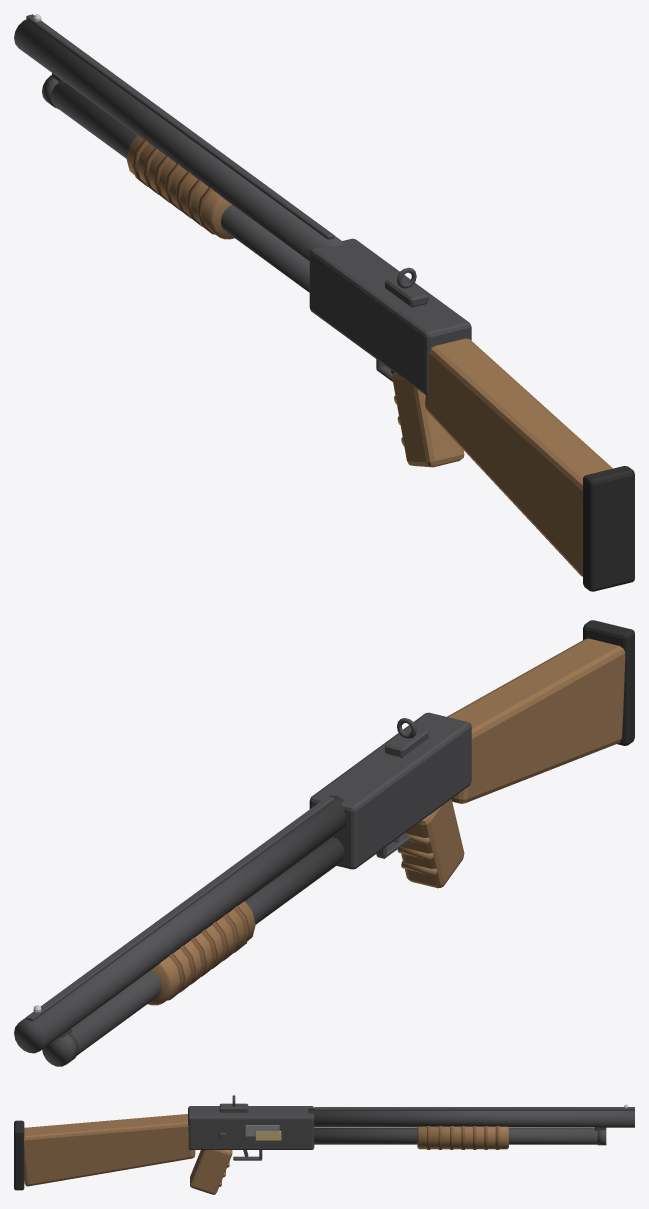
The model's file is shotgun.glb.
3 views of the same model, one above another, from view 1: azimuth 30°, elevation 25°; view 2: azimuth 150°, elevation 25°; view 3: azimuth 270°, elevation 25° (orthographic). The views are drawn at different scales.
Visible parts, largest first — view 1: Shotgun; view 2: Shotgun; view 3: Shotgun.
Boxes of the visible parts, left/top/right/bottom form: Shotgun: left=14, top=14, right=634, bottom=591; Shotgun: left=14, top=620, right=634, bottom=1066; Shotgun: left=14, top=1095, right=634, bottom=1194.
Bounding box in the file's own units: 0.0558 × 0.184 × 1.08.
